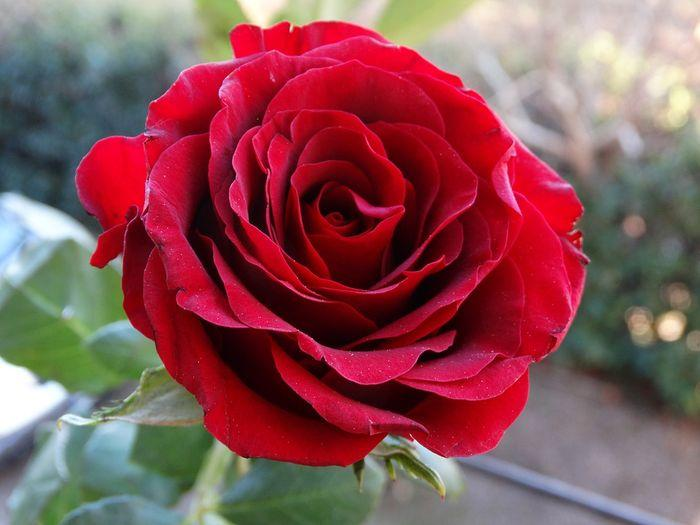rose: (73, 18, 590, 469)
